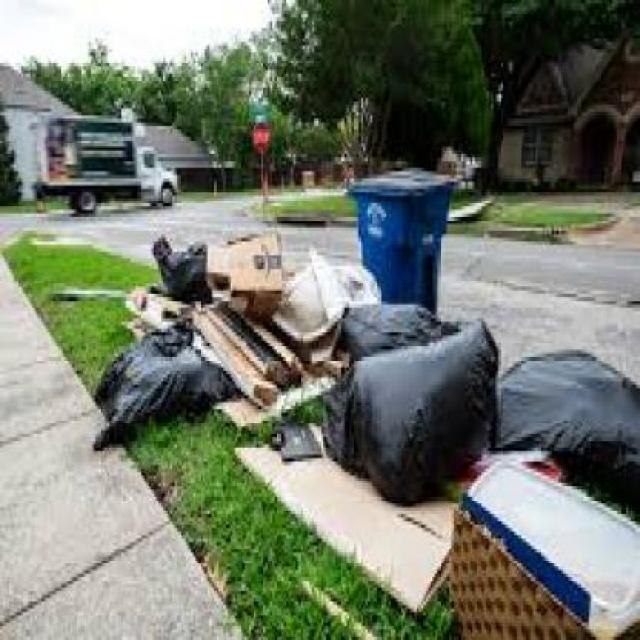garbage: (253, 343, 639, 637), (118, 245, 483, 482)
